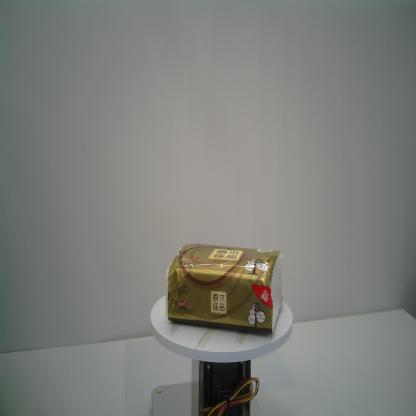Tissue: (165, 244, 283, 334)
